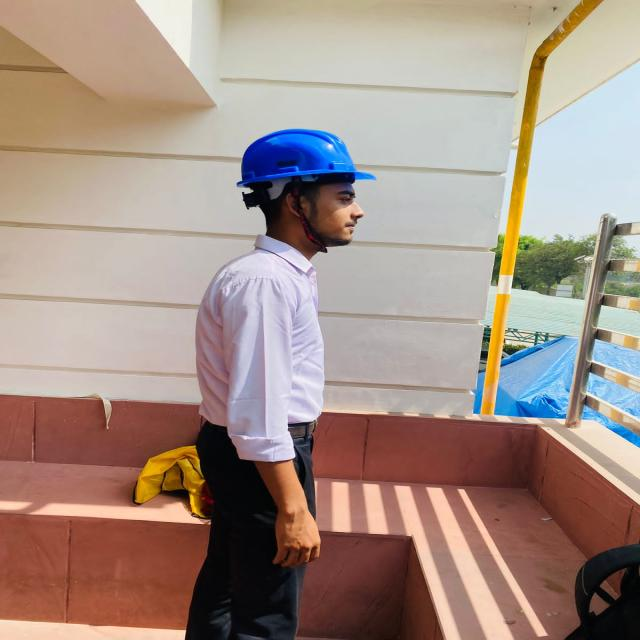no jacket: (199, 129, 374, 640)
